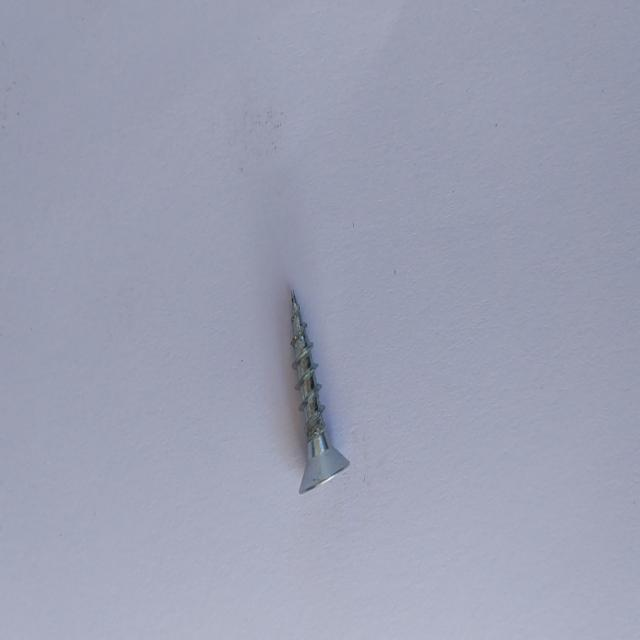Screw: (291, 290, 350, 494)
